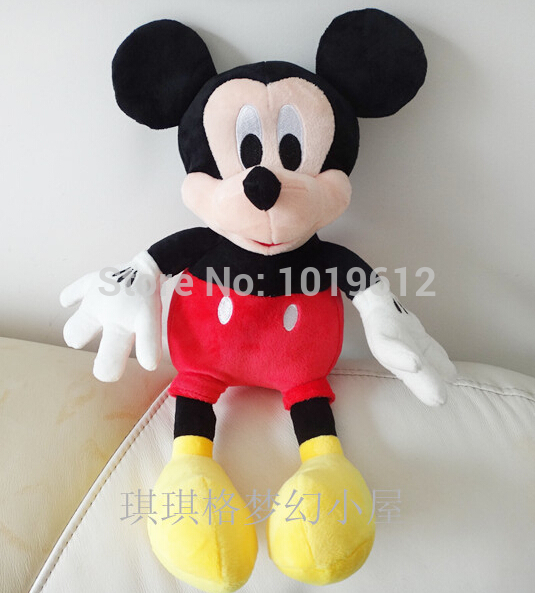Mickey: (108, 3, 429, 254)
